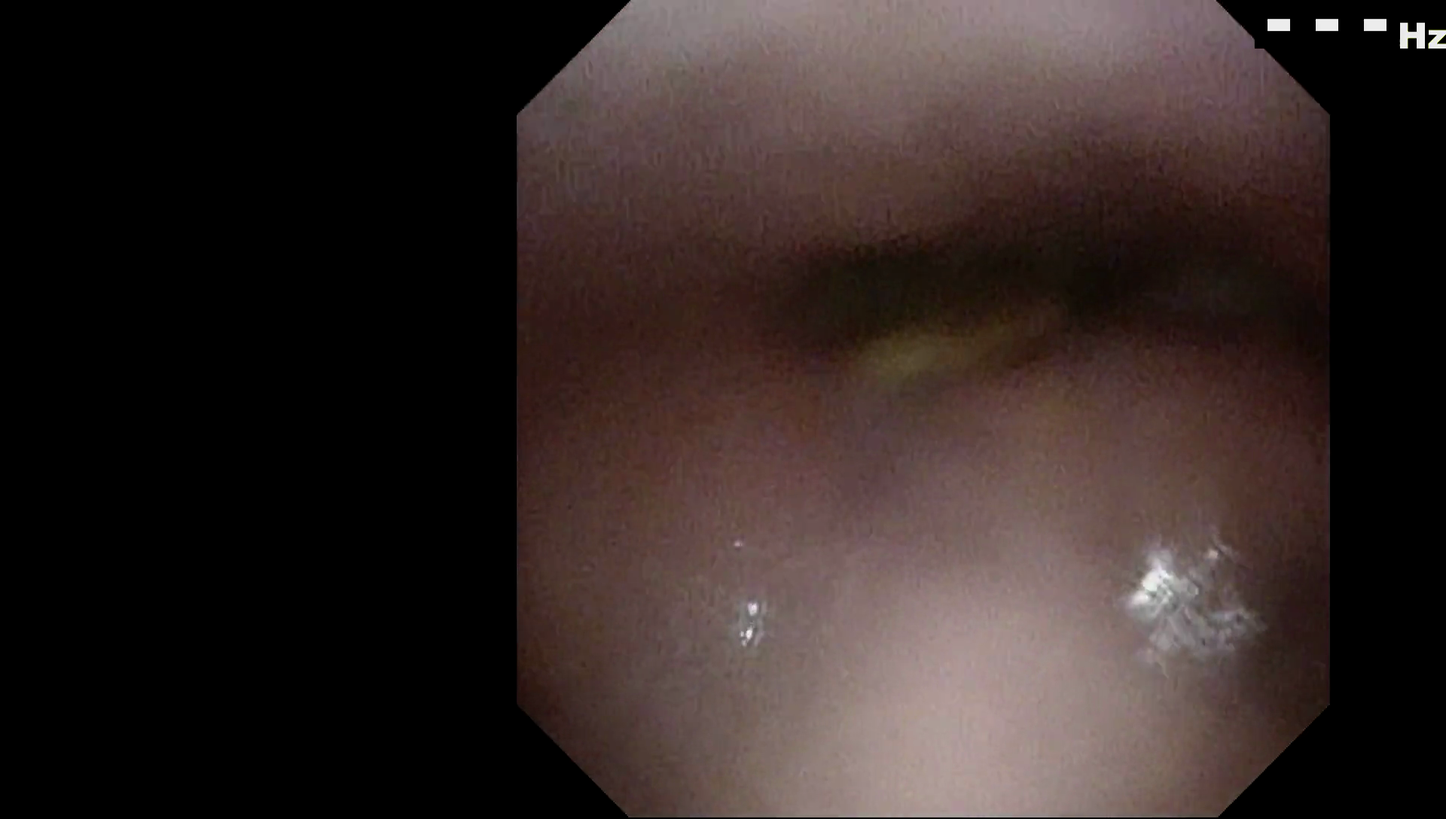next: (766, 209, 1050, 370), (1060, 197, 1245, 360)
